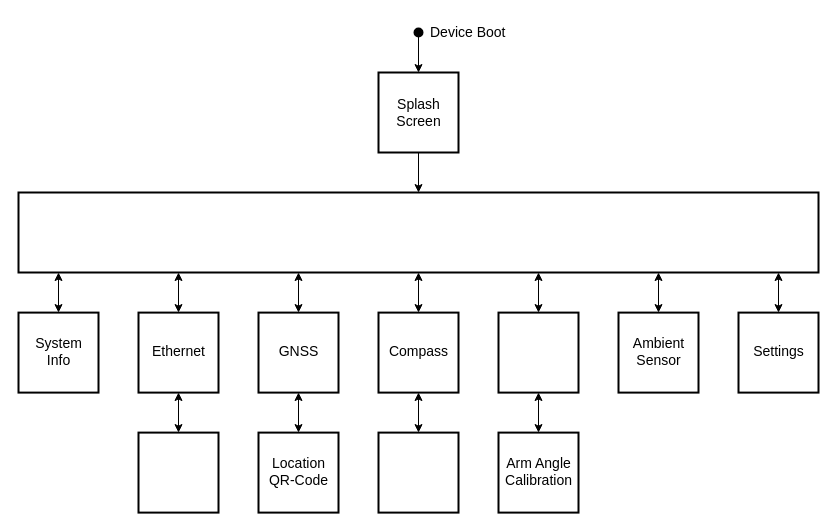
The diagram is 836 pixels wide and 531 high, and some of its shapes have lost their labels. The shapes that lost their labels are listed below. From the top down, each one's centre as x and y in pixels, then its label:
At (418,232): "Home Menu".
At (538,352): "Arm Angle".
At (178,472): "Ethernet Setup".
At (418,472): "Compass Calibration".
